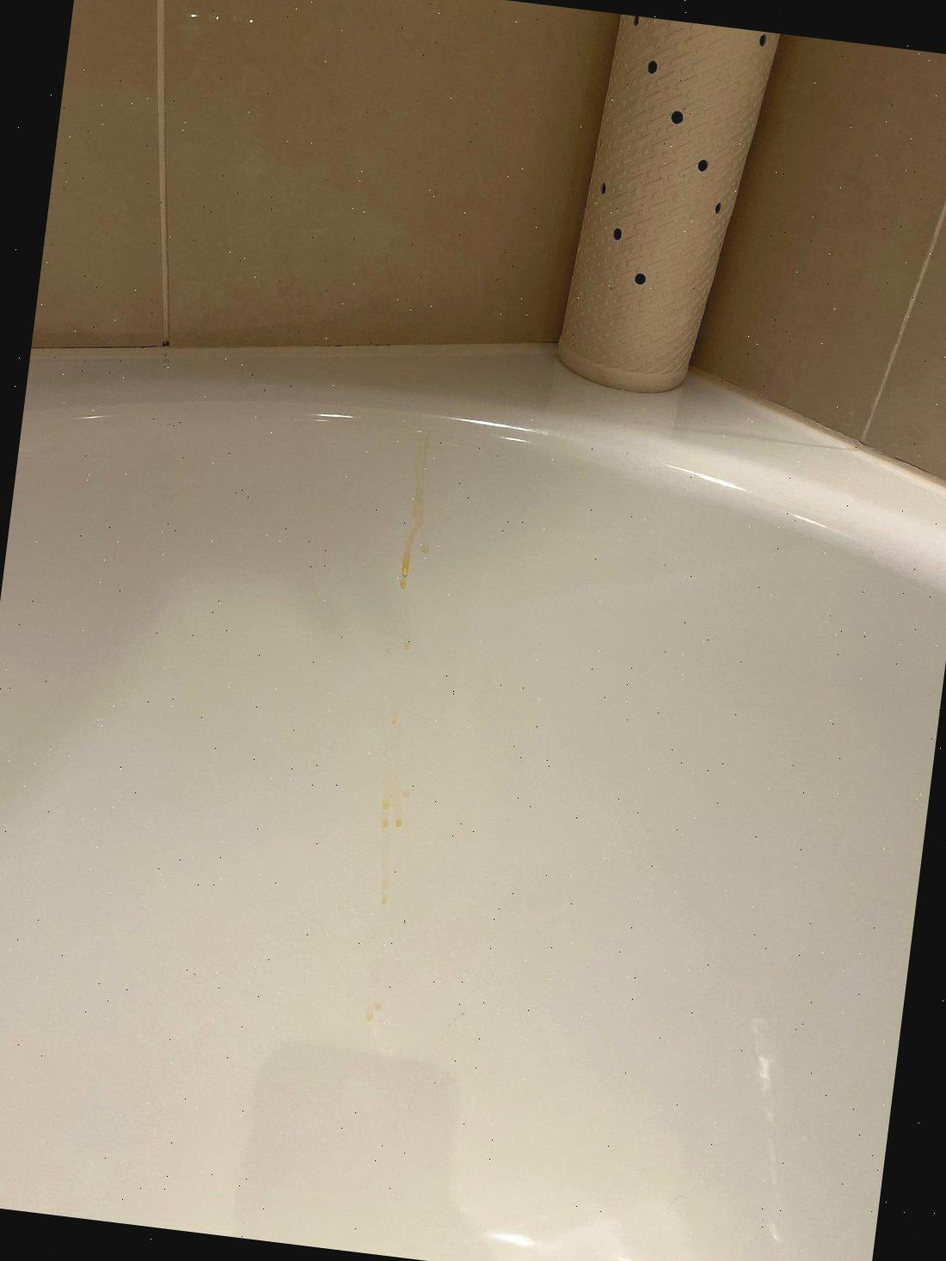messy_sink: (0, 330, 946, 1261)
